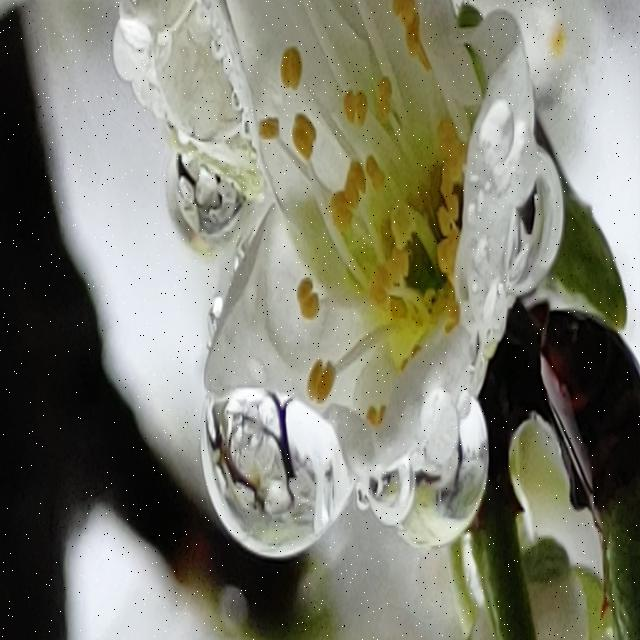raindrop: (175, 354, 364, 601), (388, 354, 492, 570), (495, 130, 575, 323), (157, 131, 254, 274), (364, 440, 419, 544), (468, 83, 520, 183)
